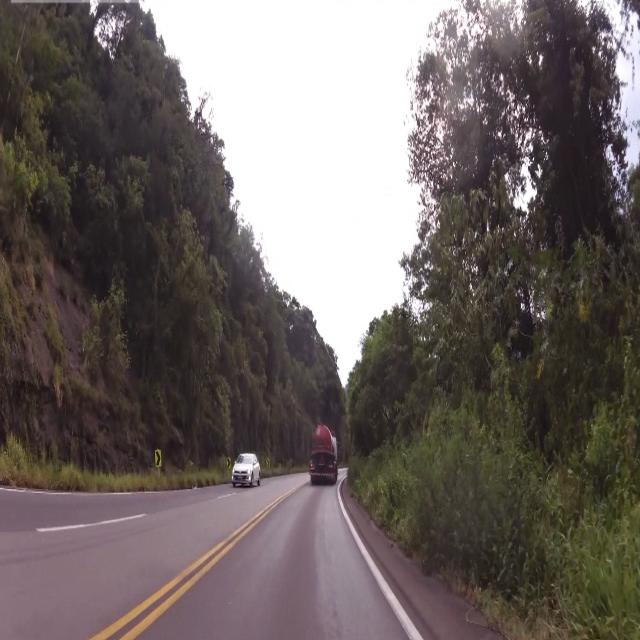Del: (156, 446, 162, 469)
